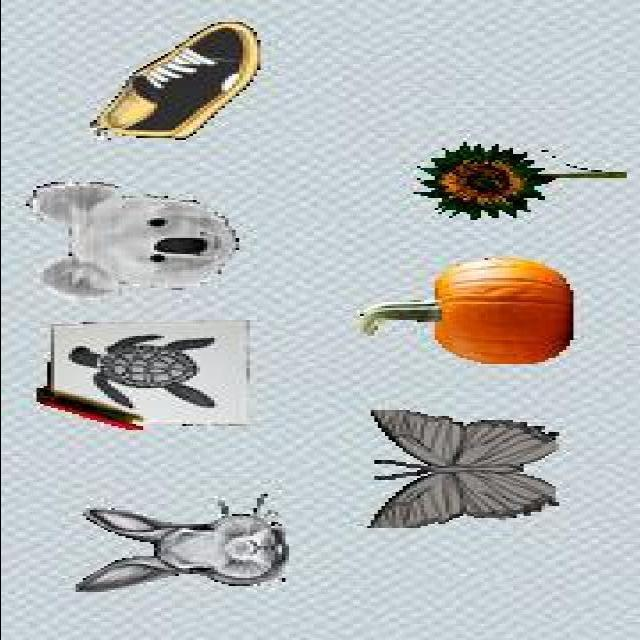Other Objects: (365, 408, 561, 528), (88, 21, 262, 141)
